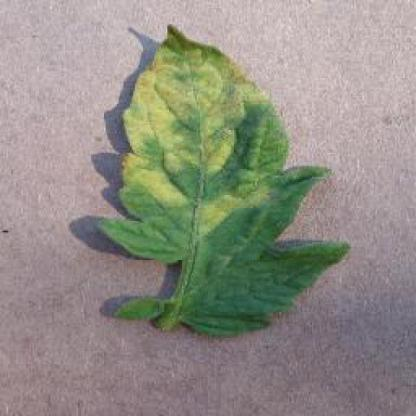Tomato_Leaf_Mold: (96, 24, 331, 260)
